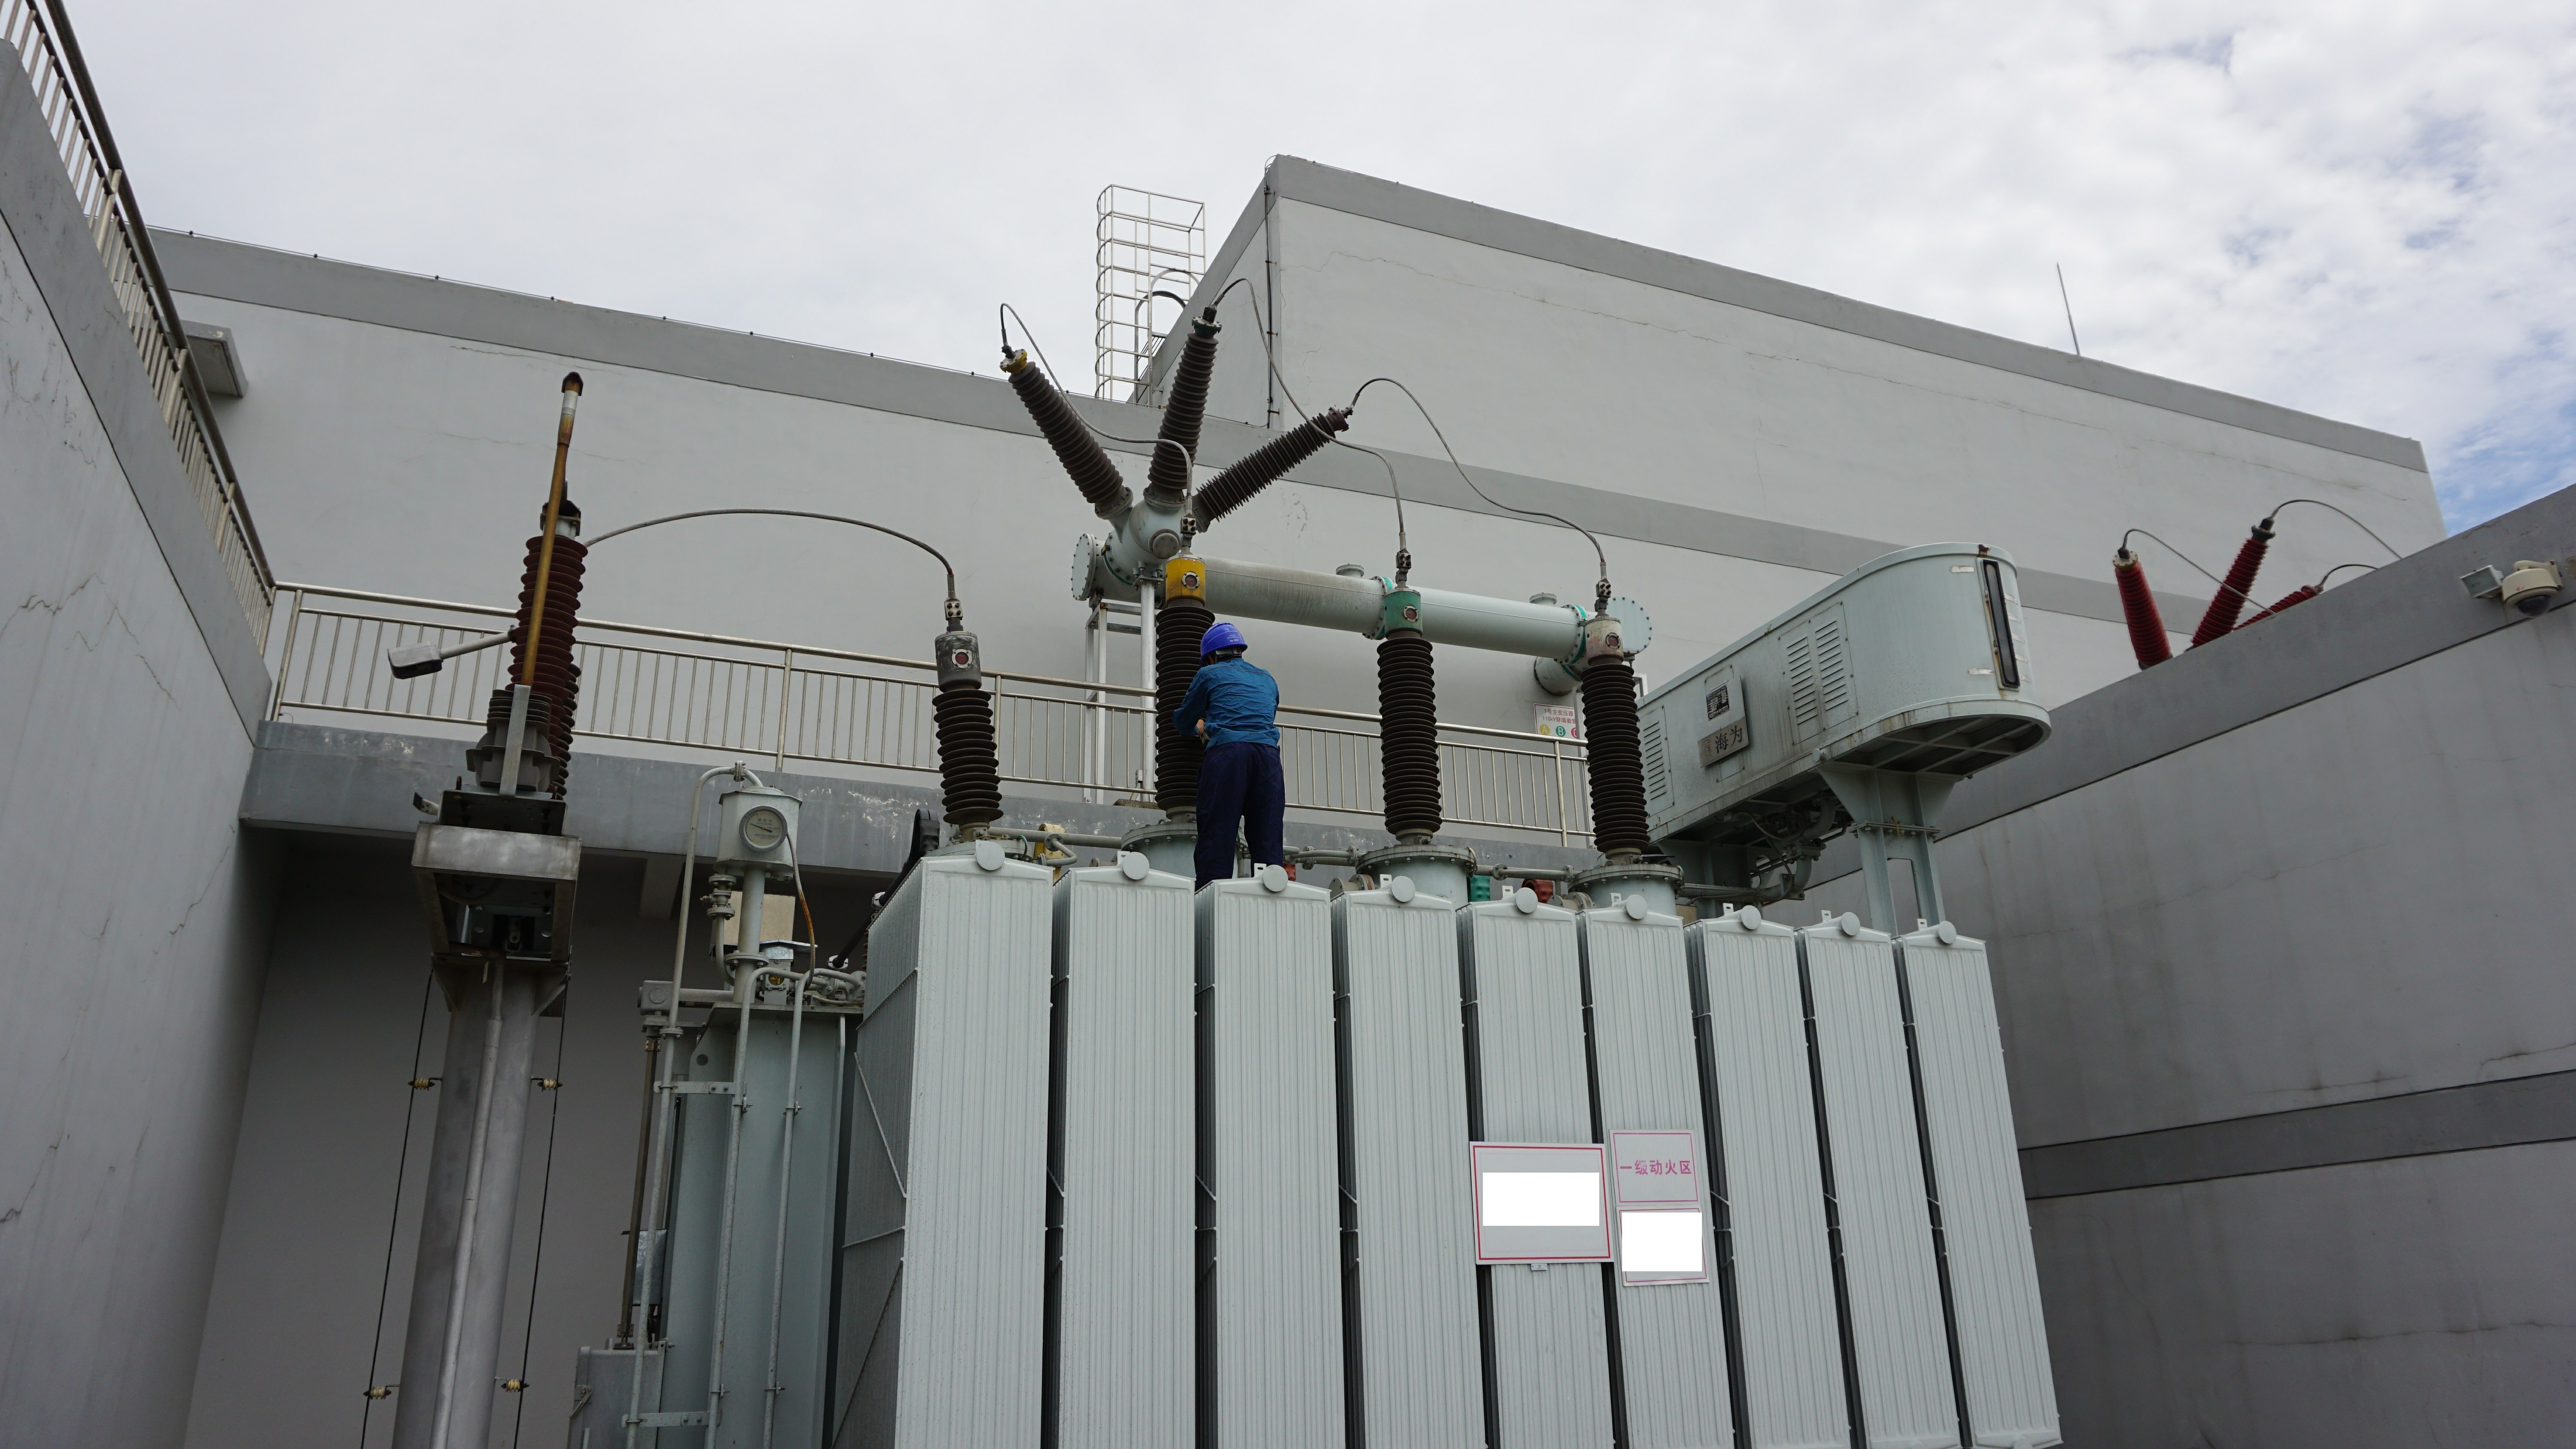hat: (1157, 552, 1214, 623), (1194, 616, 1256, 674)
